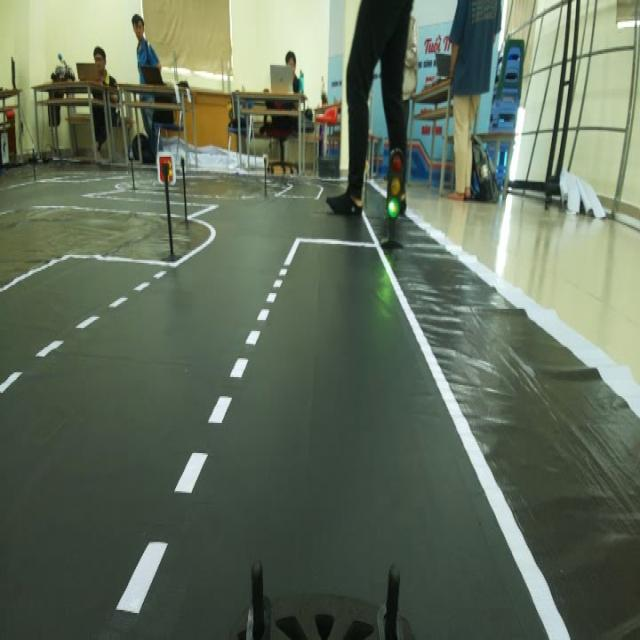trafficlight: (374, 137, 417, 267)
